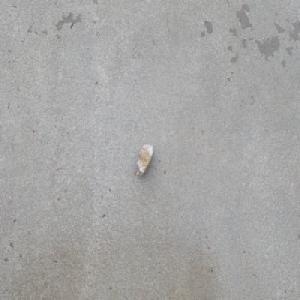Rock: (136, 142, 154, 177)
